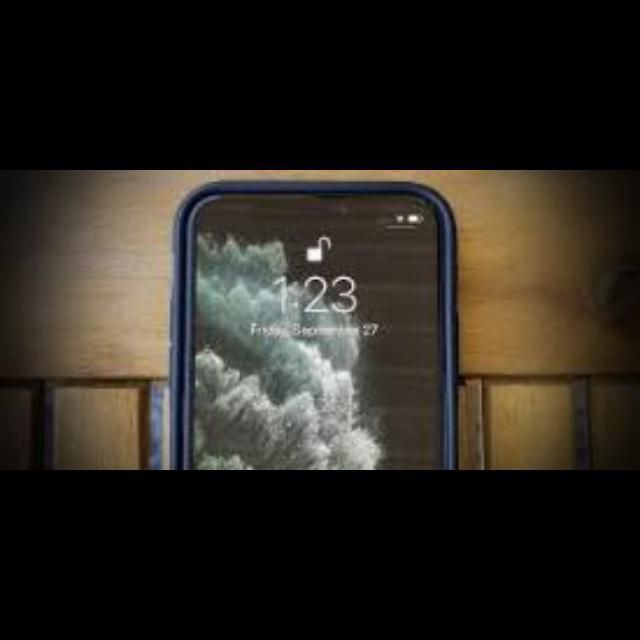Phone: (169, 179, 455, 469)
